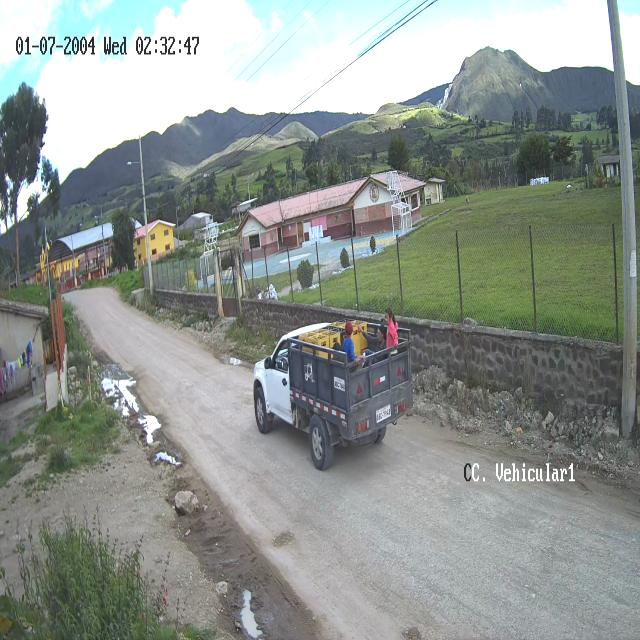CMT: (252, 317, 415, 472)
